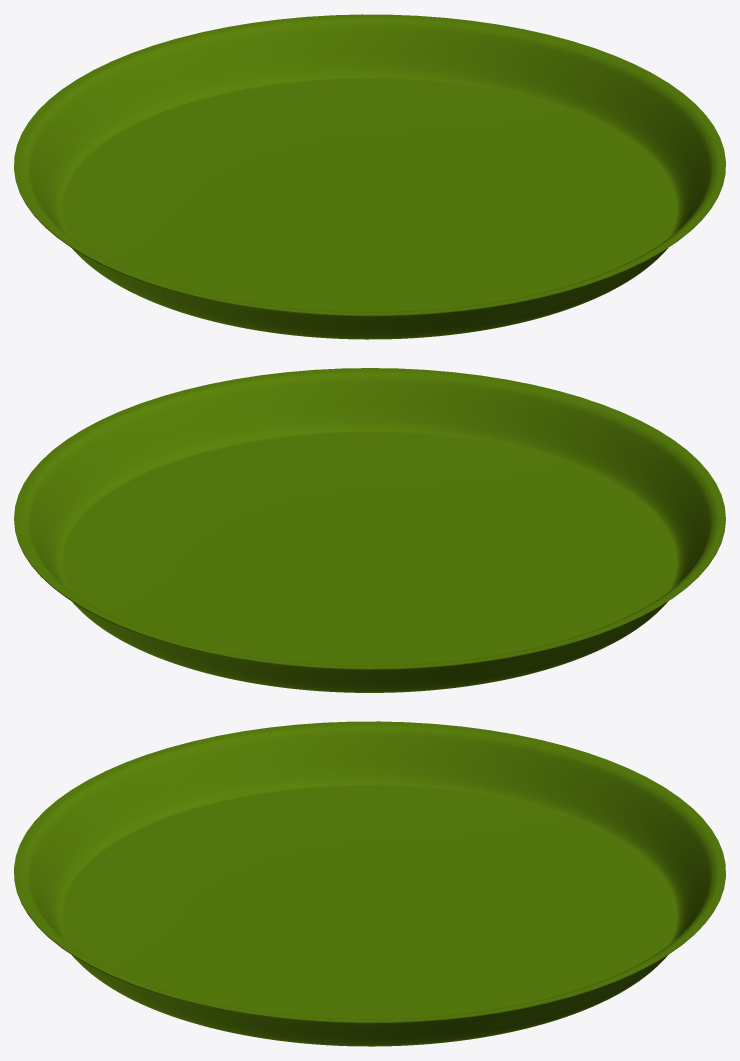
Rendered from Tray.fbx.
3 renders of one model, top to bottom at view 1: azimuth 30°, elevation 25°; view 2: azimuth 150°, elevation 25°; view 3: azimuth 270°, elevation 25°, orthographic.
Visible parts, largest first — view 1: Tube_2; view 2: Tube_2; view 3: Tube_2.
Part boxes in pixels (bbox=[...]): Tube_2: bbox=[14, 14, 725, 339]; Tube_2: bbox=[14, 368, 725, 692]; Tube_2: bbox=[14, 721, 725, 1046].
Bounding box in the file's own units: 374 × 27.2 × 374.
